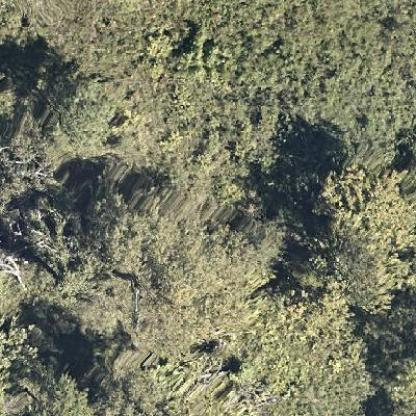tree-top: (303, 161, 415, 314), (0, 323, 85, 414)
